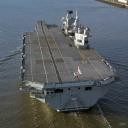Portanaves: (20, 2, 117, 116)
